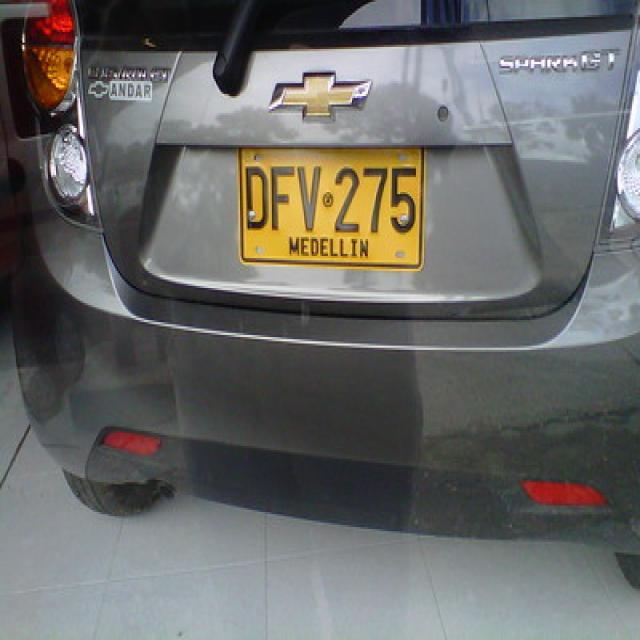placa_carro: (233, 144, 422, 275)
